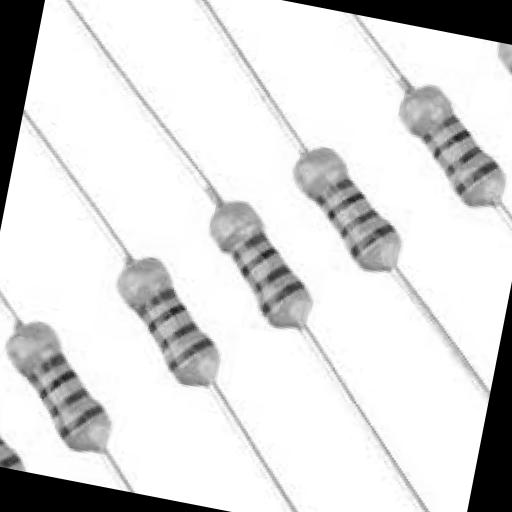RESISTOR: (176, 110, 466, 304), (122, 196, 358, 372), (64, 208, 266, 404), (314, 79, 512, 254), (0, 292, 145, 469)
